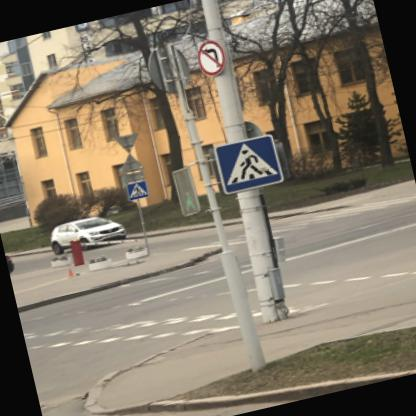crosswalk: (211, 131, 283, 194), (124, 178, 148, 200)
trafficlight: (166, 163, 200, 217)
